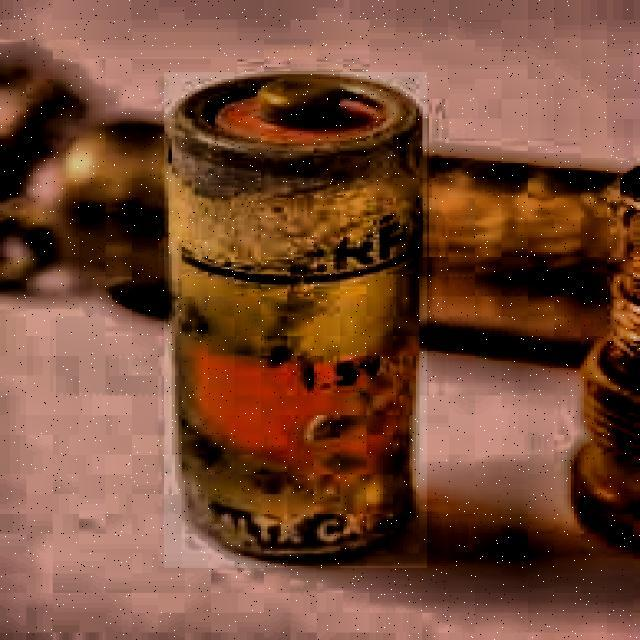B3: (157, 59, 436, 563)
